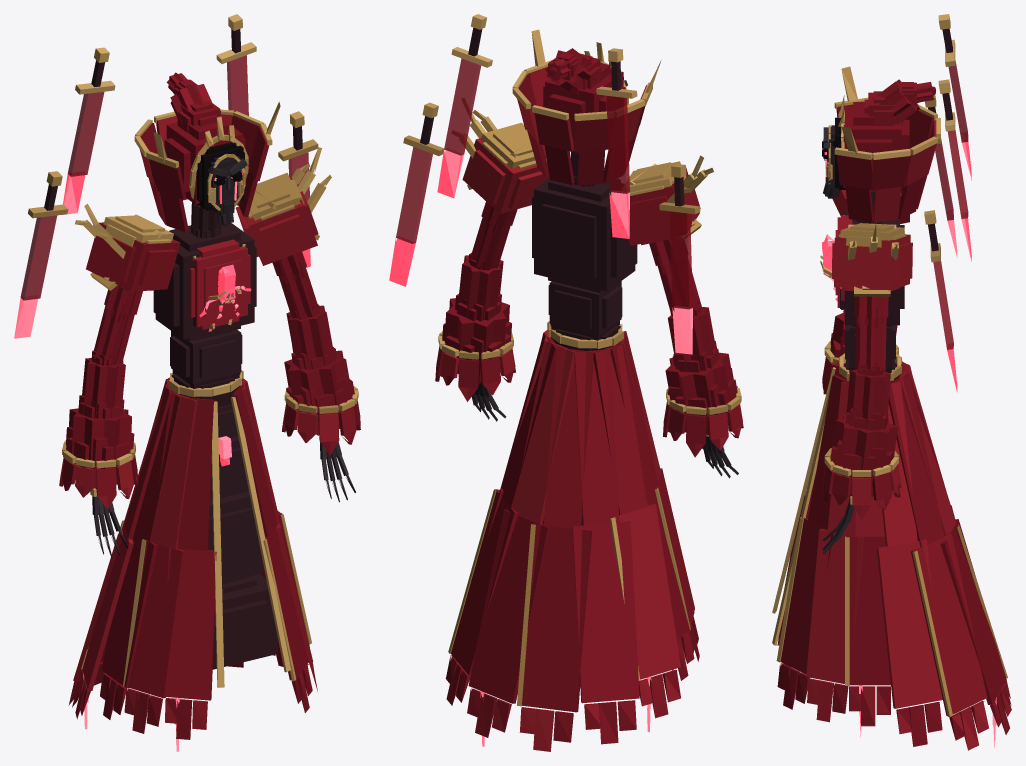
The picture shows the model from 3 angles, left to right: view 1: azimuth 30°, elevation 25°; view 2: azimuth 150°, elevation 25°; view 3: azimuth 270°, elevation 25°; orthographic projection. The views are drawn at different scales.
Parts seen in each view (by area): view 1: ScarletArchon; view 2: ScarletArchon; view 3: ScarletArchon.
Part boxes in pixels (box(x1,y1,x2,y2)): ScarletArchon: box(14, 14, 360, 751); ScarletArchon: box(389, 14, 743, 751); ScarletArchon: box(772, 14, 1011, 750).
Size of the model in its own units: 0.9929 by 2.2 by 0.6993.
